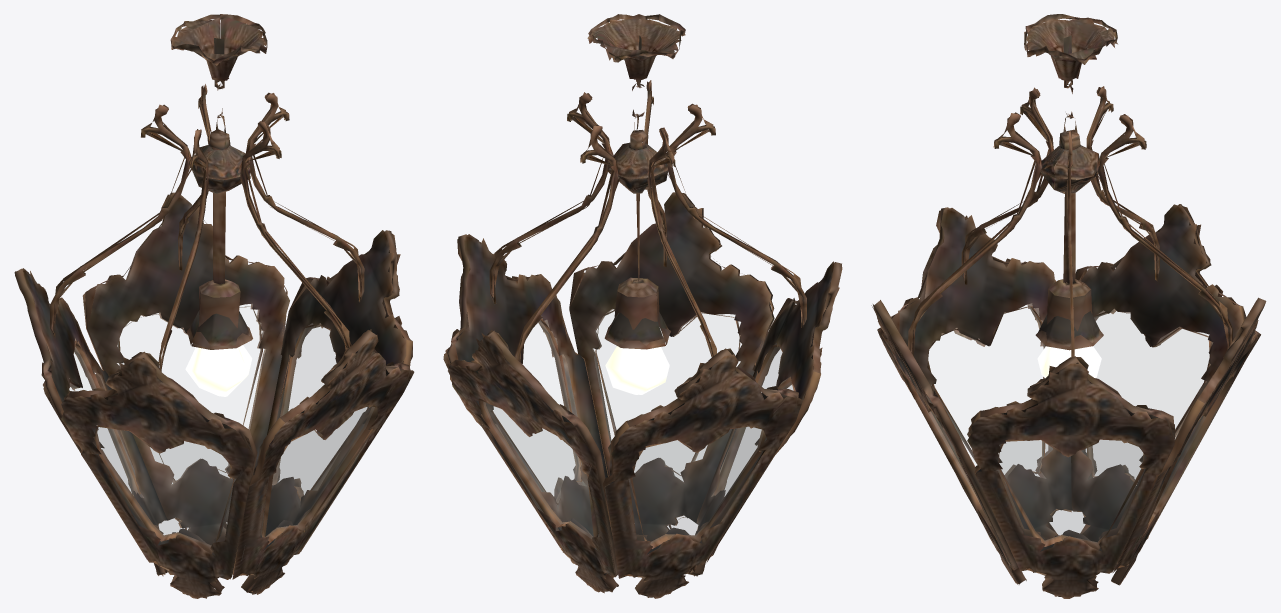
The model's file is chandelier_lantern.glb.
3 views of the same model, side by side, from view 1: azimuth 30°, elevation 25°; view 2: azimuth 150°, elevation 25°; view 3: azimuth 270°, elevation 25° (orthographic).
Parts seen in each view (by area): view 1: lantern_chandelier_01; view 2: lantern_chandelier_01; view 3: lantern_chandelier_01.
Boxes of the visible parts, <box> form: lantern_chandelier_01: <box>14,14,414,598</box>; lantern_chandelier_01: <box>443,14,842,598</box>; lantern_chandelier_01: <box>871,14,1266,598</box>.
Size of the model in its own units: 0.5799 by 0.8776 by 0.5746.
3 materials, 1 textured.
